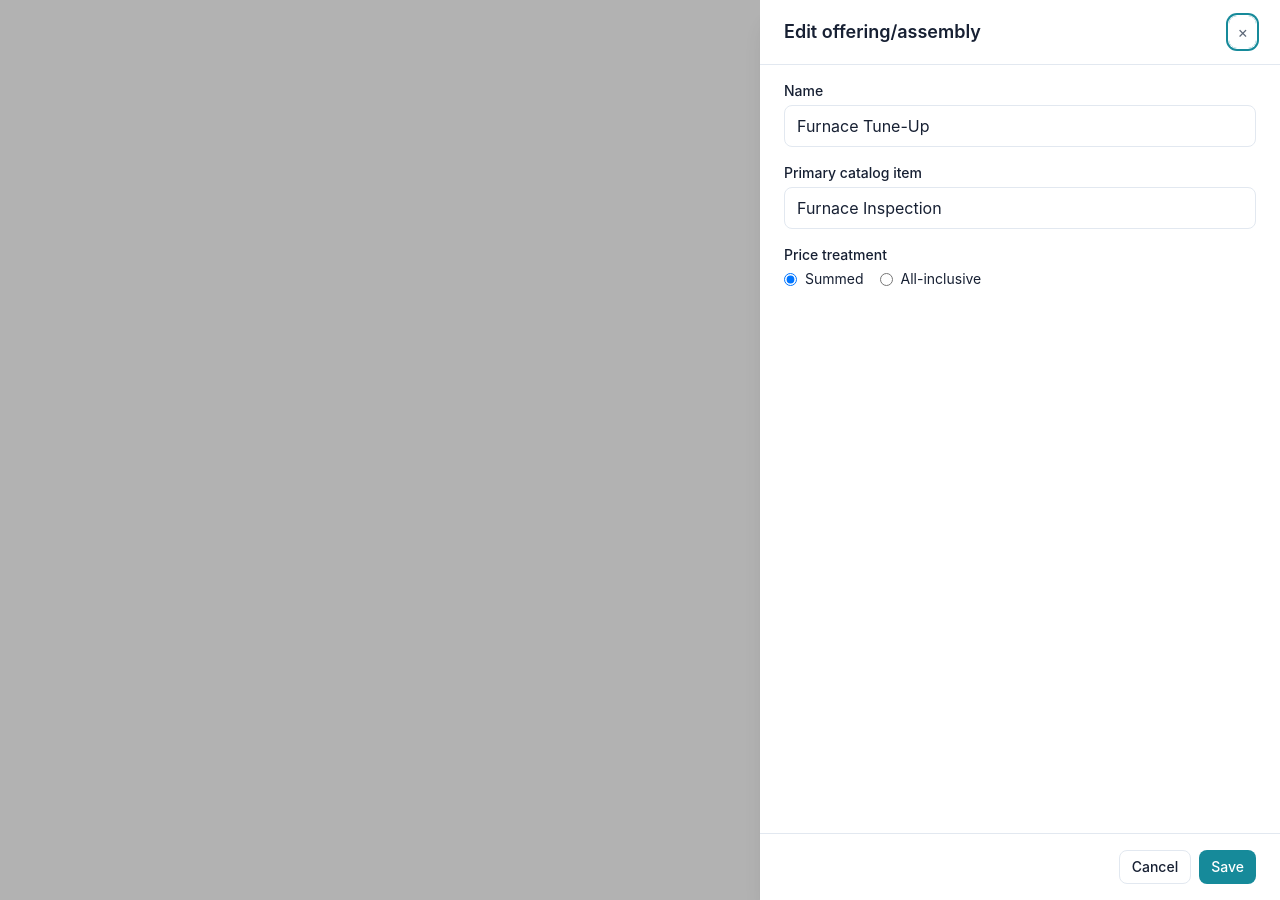
OfferingAssemblyHeaderEditDrawer › routes a dirty Escape through the discard confirmation instead of closing
The image size is (1280, 900).
Type " Plus" into the field labelled "Name". click: (1020, 126)
box: [784, 105, 1256, 147]
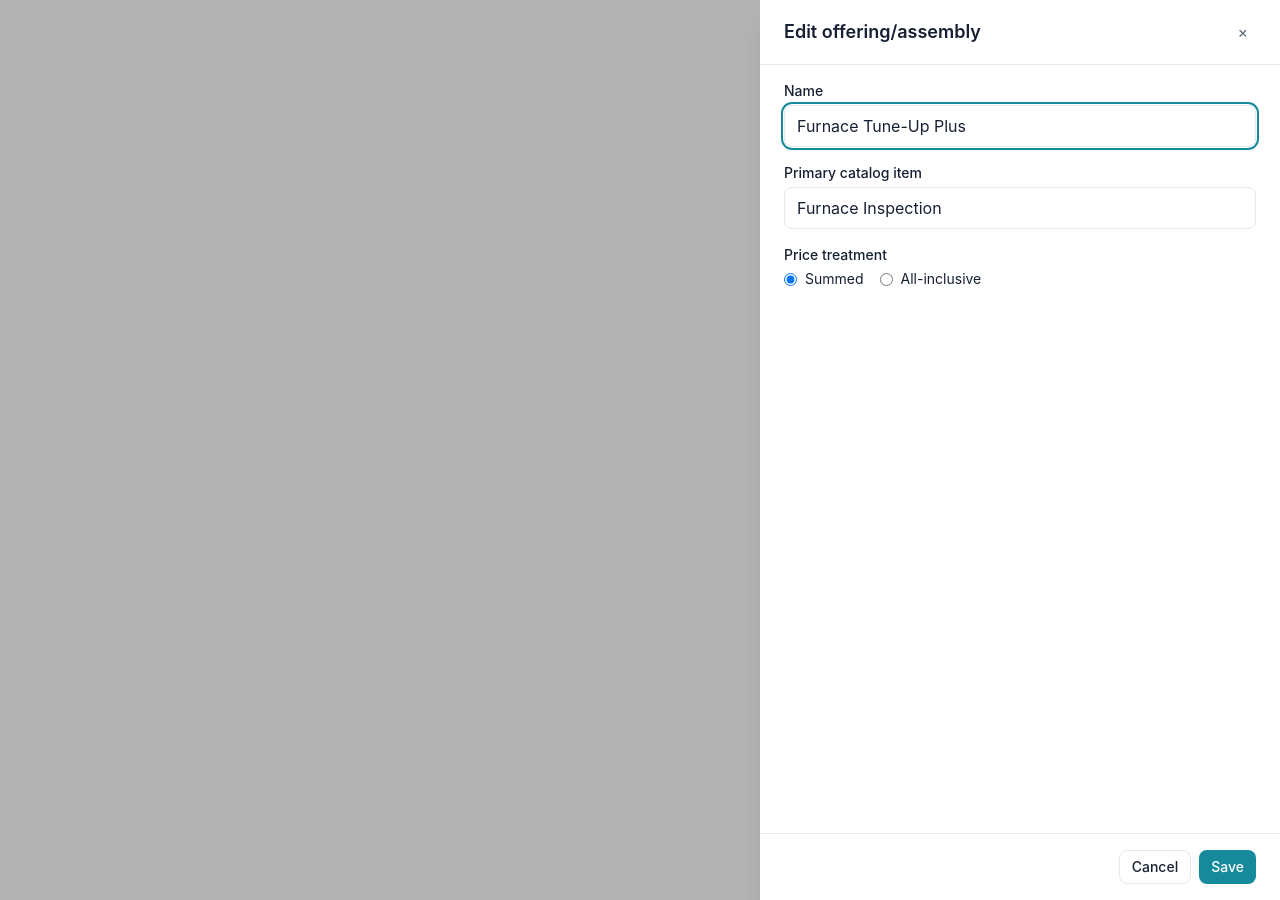
Press Escape
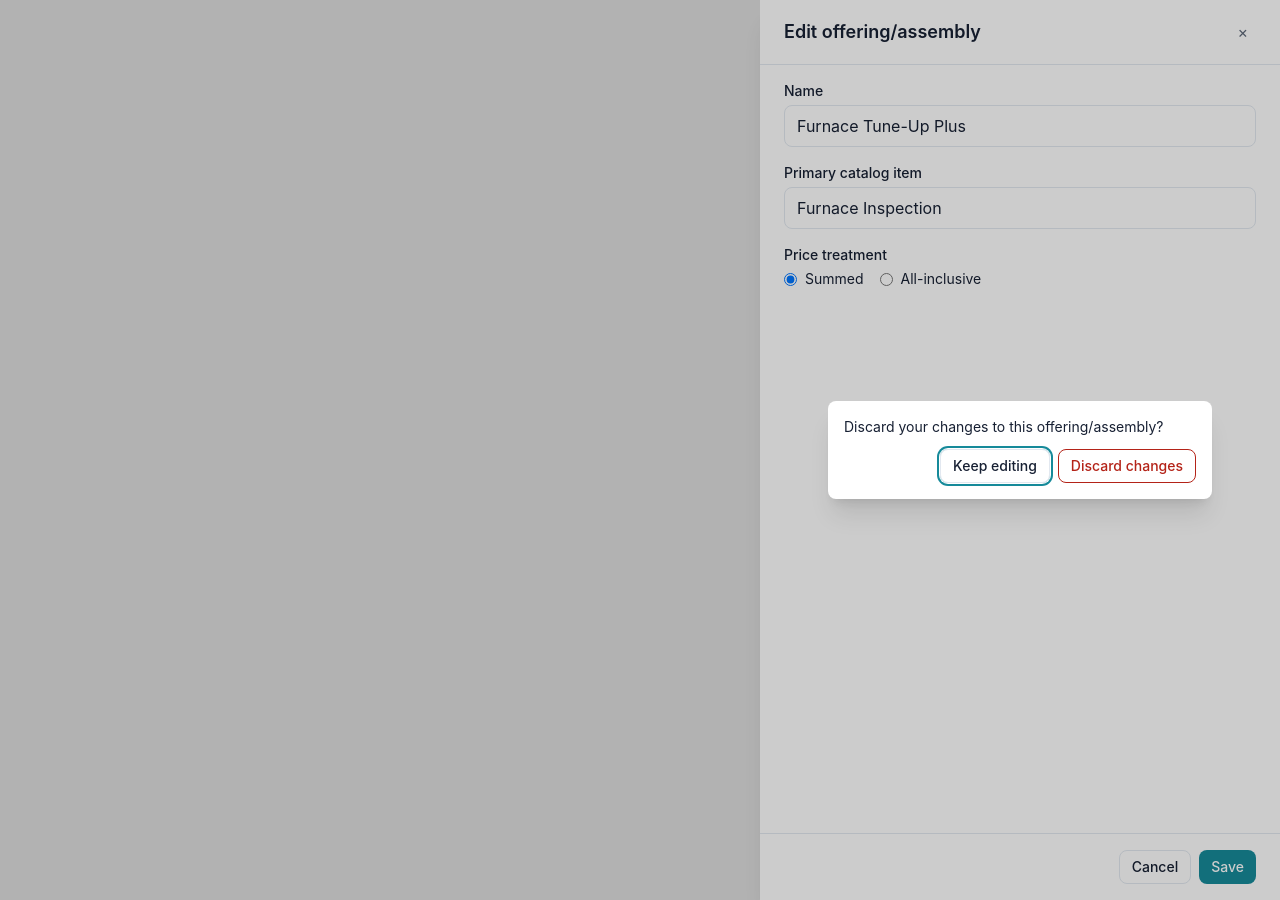
Check: the dialog is shown, box [828, 401, 1212, 499]
